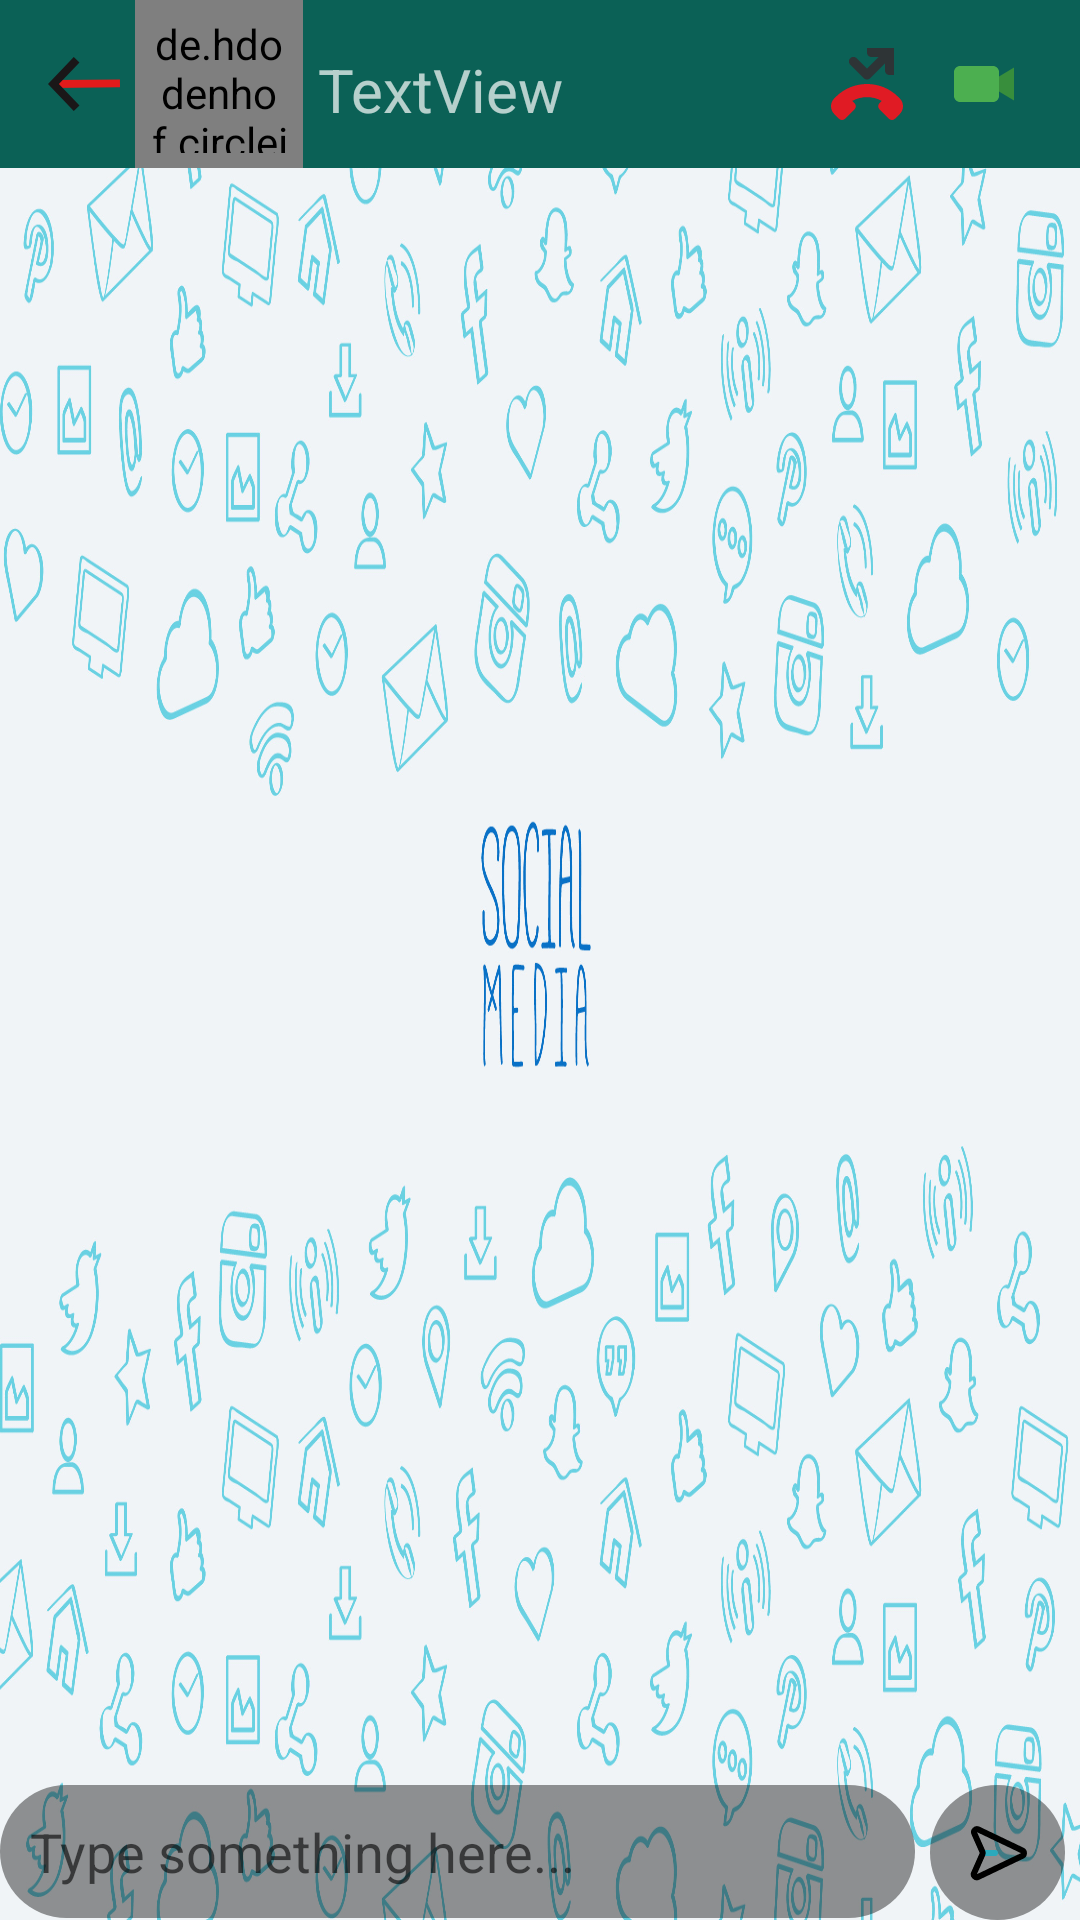

Locate icon controls on the screen. Image size 1080 × 1920, boxes as (x1, y1, x2, y2).
send: (930, 1785, 1065, 1920)
